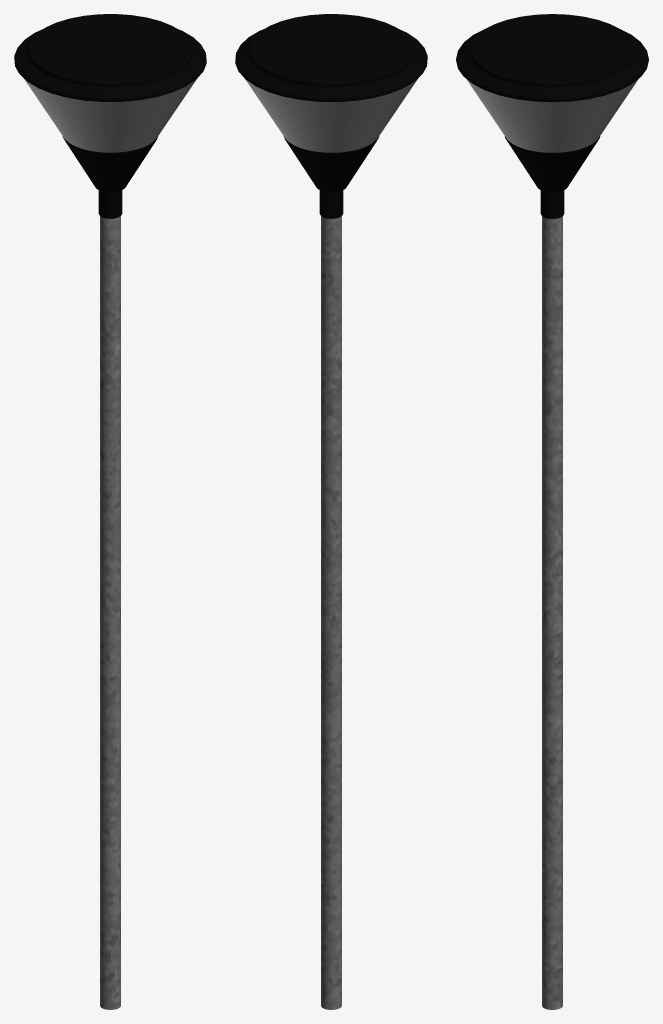
3 renders of one model, left to right at view 1: azimuth 30°, elevation 25°; view 2: azimuth 150°, elevation 25°; view 3: azimuth 270°, elevation 25°, orthographic.
Visible parts, largest first — view 1: Lamapdaire; view 2: Lamapdaire; view 3: Lamapdaire.
Part boxes in pixels (<box>): Lamapdaire: <box>14,14,206,1009</box>; Lamapdaire: <box>235,14,427,1009</box>; Lamapdaire: <box>456,14,648,1009</box>.
Size of the model in its own units: 0.6702 by 3.68 by 0.6702.
2 materials, 1 textured.
